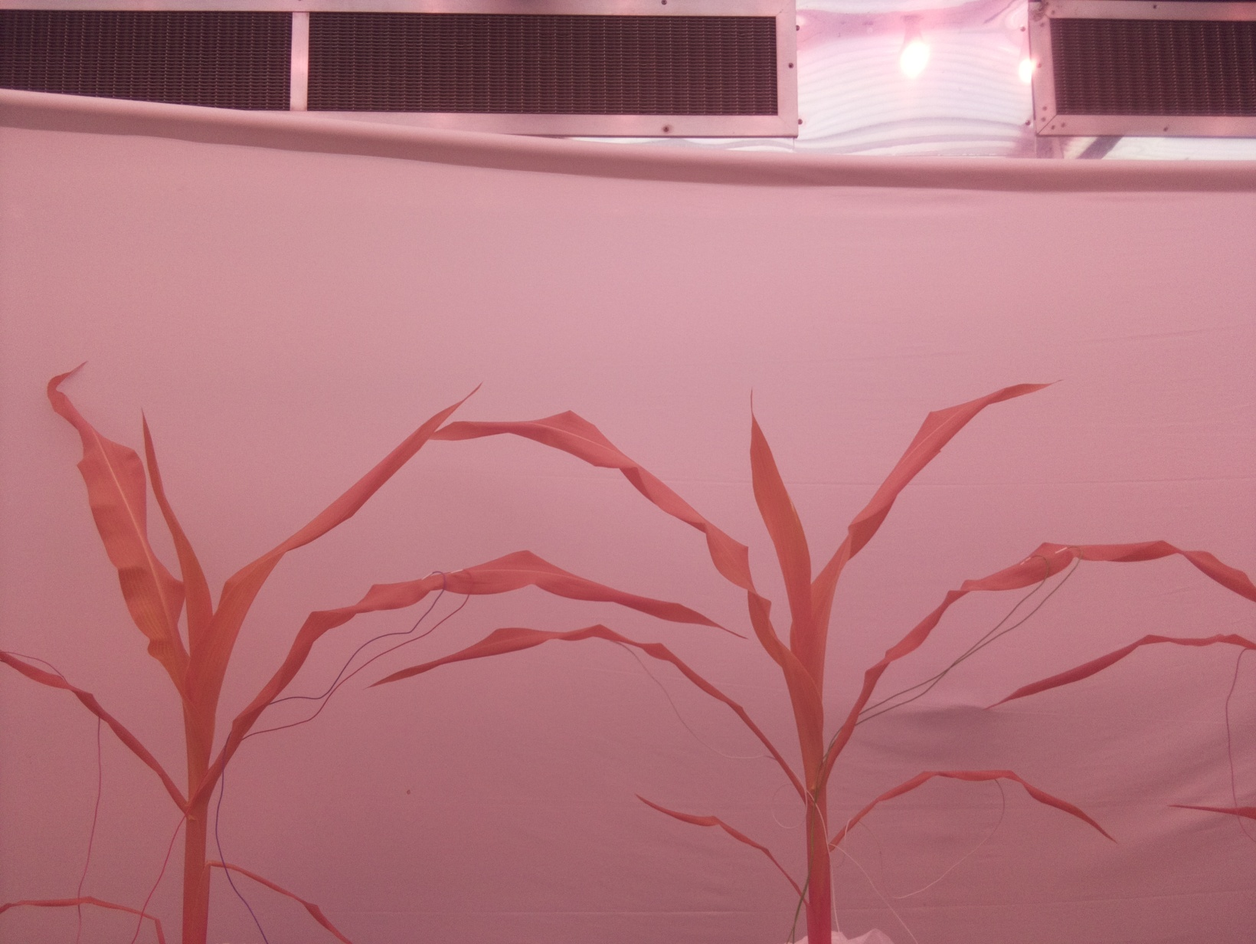maize: (365, 377, 1256, 944), (1, 356, 744, 944)
